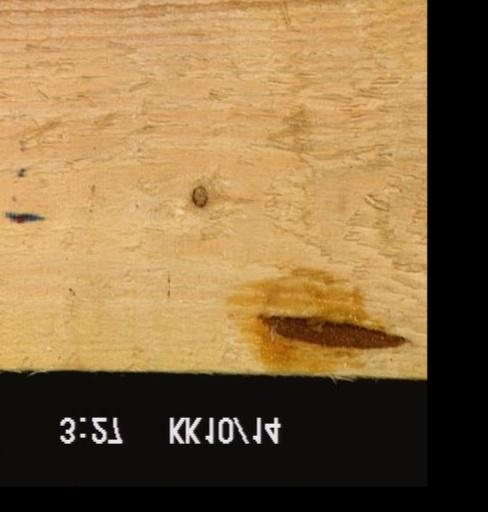dry_knot: (186, 181, 211, 207)
